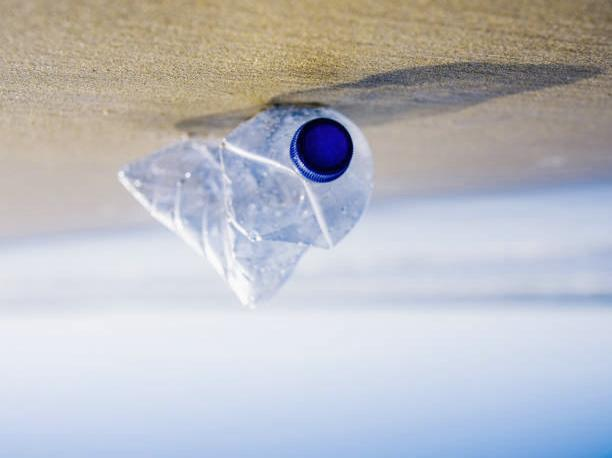Plastic: (119, 103, 390, 308)
